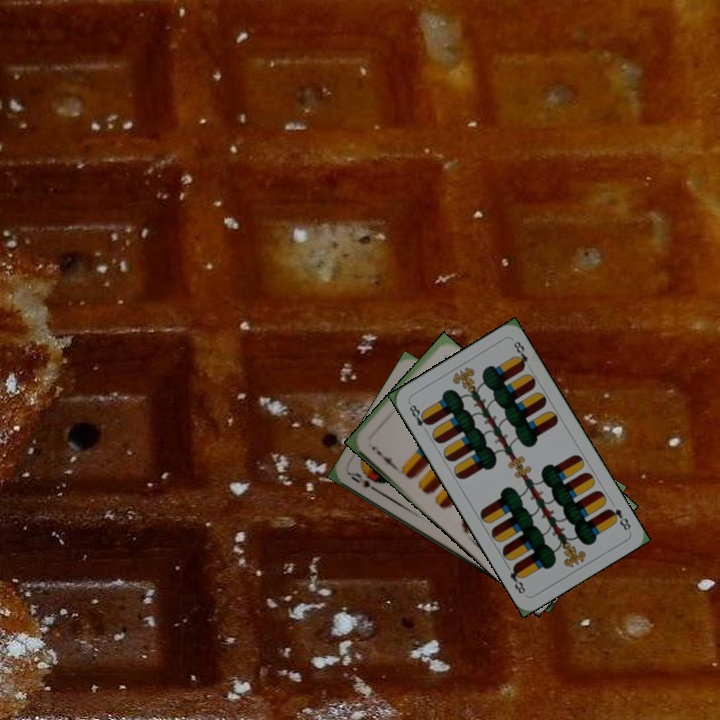E7: (367, 442, 397, 470)
E8: (405, 399, 433, 436), (603, 504, 633, 533)
SO: (347, 468, 383, 496)
